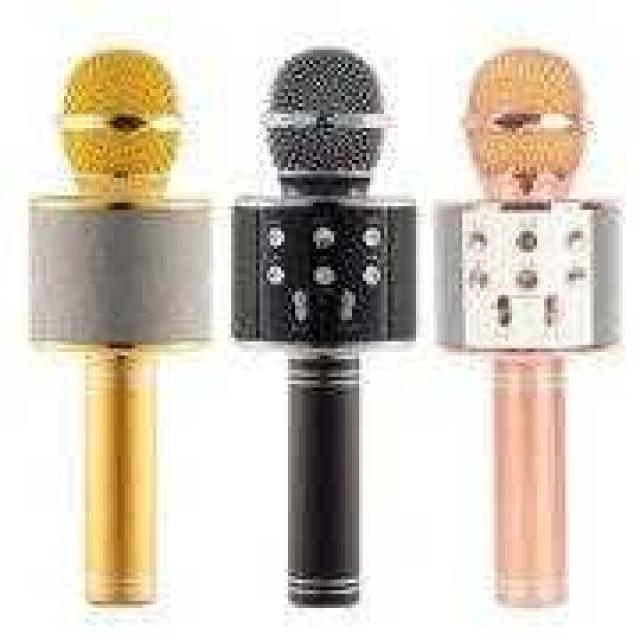microphone: (446, 51, 624, 611), (32, 50, 208, 608), (238, 54, 412, 602)
